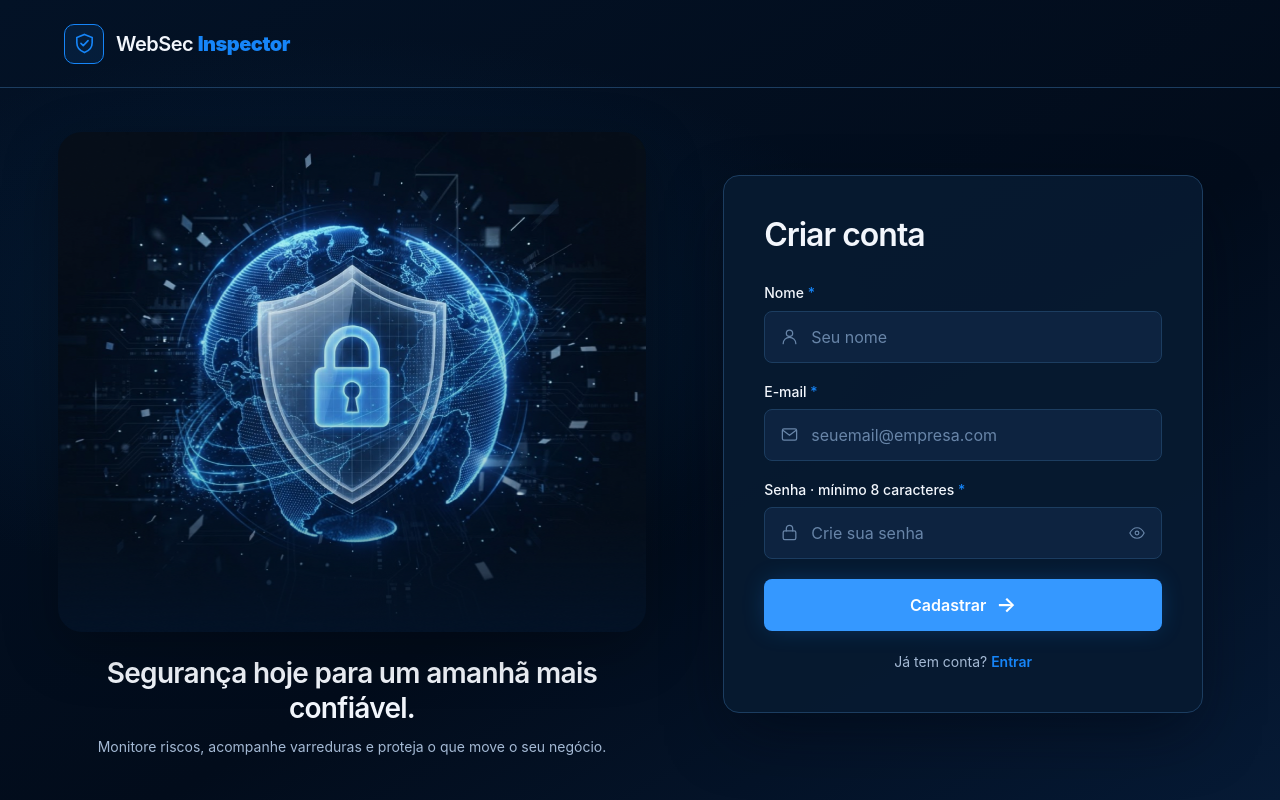
Test: Autenticação — componentes reais, transporte HTTP simulado › AUTH-UI-05: cadastro rejeita nome vazio, e-mail inválido e senha curta
The width and height of the screenshot is (1280, 800).
Click the button "Cadastrar →": (963,605) [764, 579, 1162, 631]
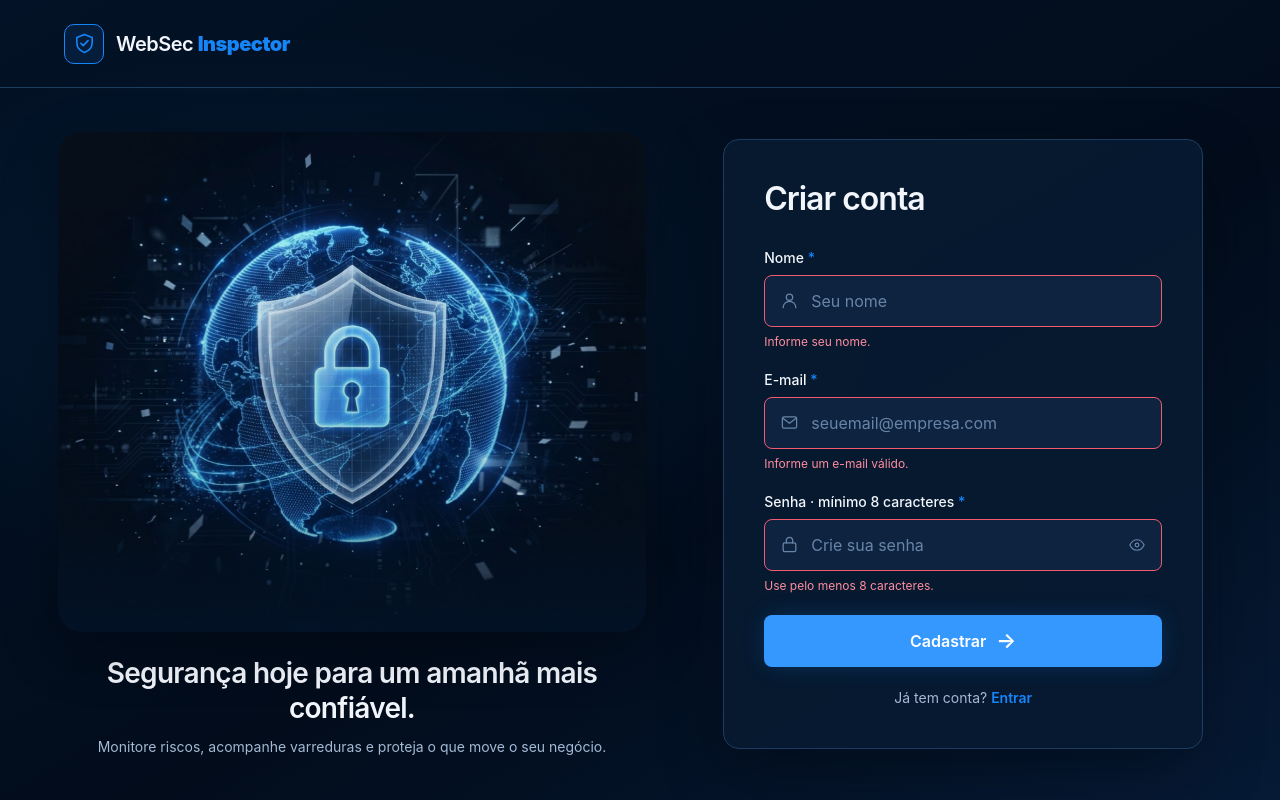
expect the text "Informe seu nome." is shown: met, box [764, 334, 870, 349]
expect the text "Informe um e-mail válido." is shown: met, box [764, 456, 909, 471]
expect the text "Use pelo menos 8 caracteres." is shown: met, box [764, 578, 934, 593]
